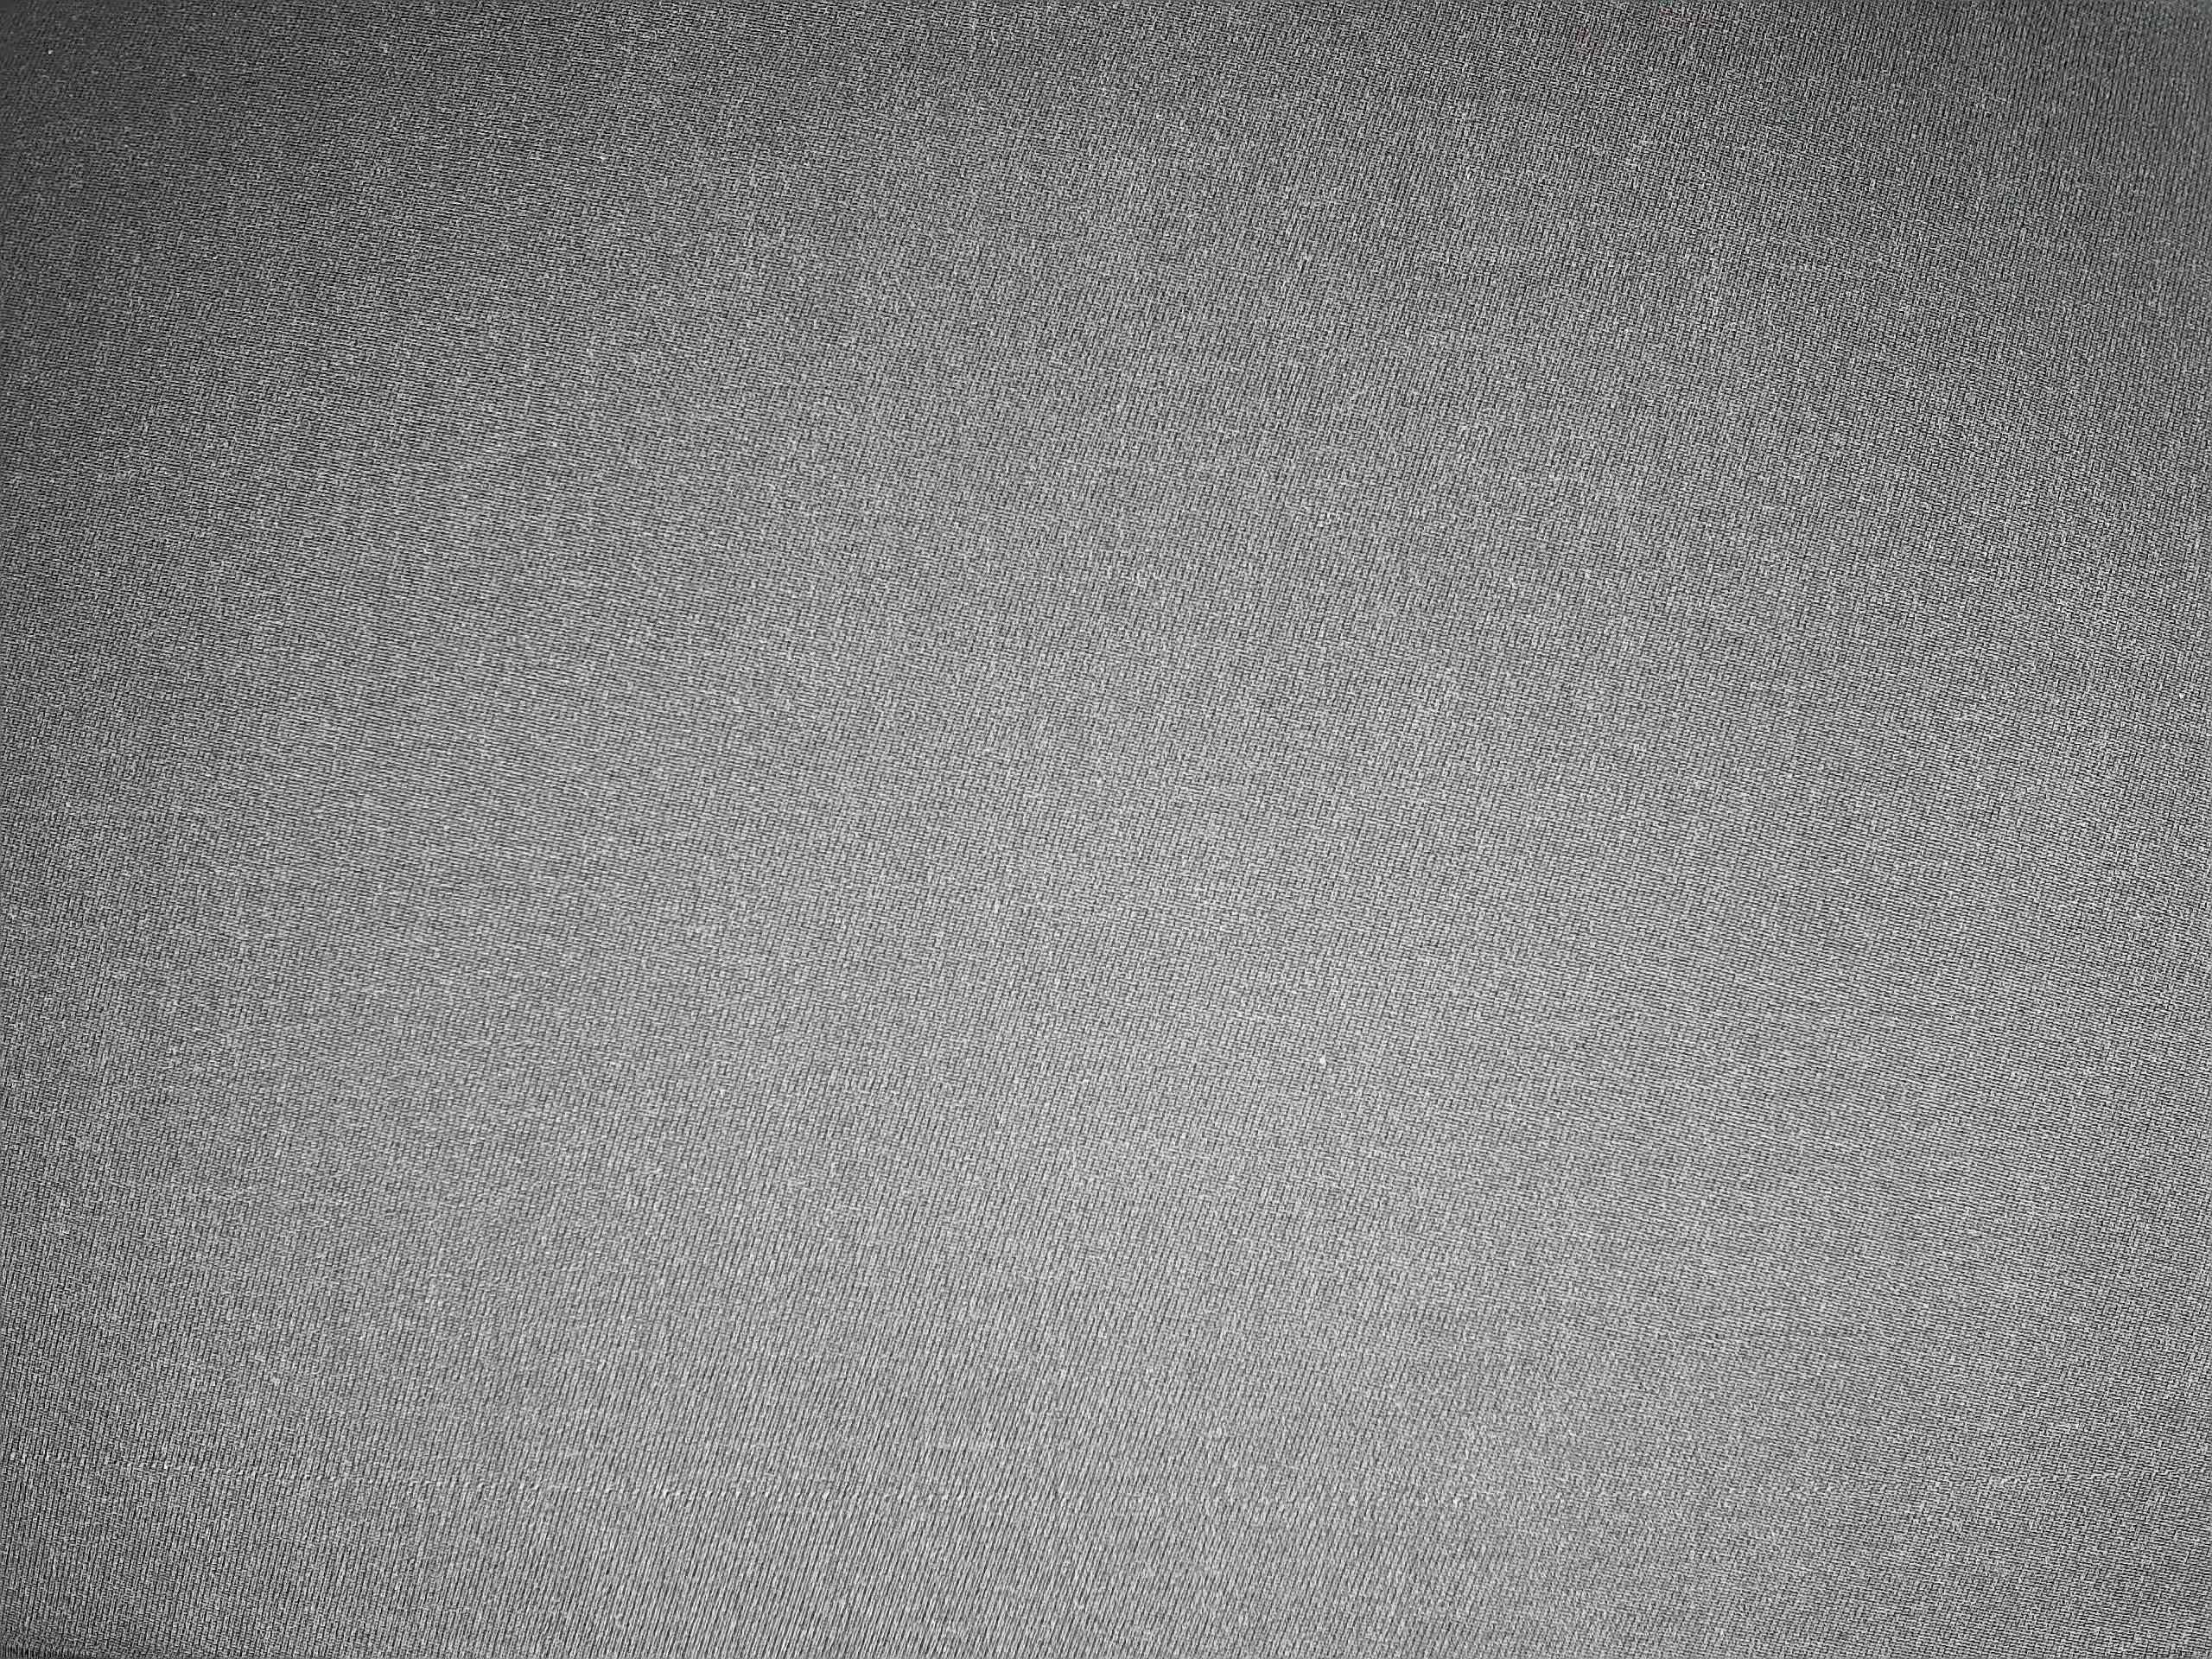jumps: (7, 1425, 2200, 1535)
